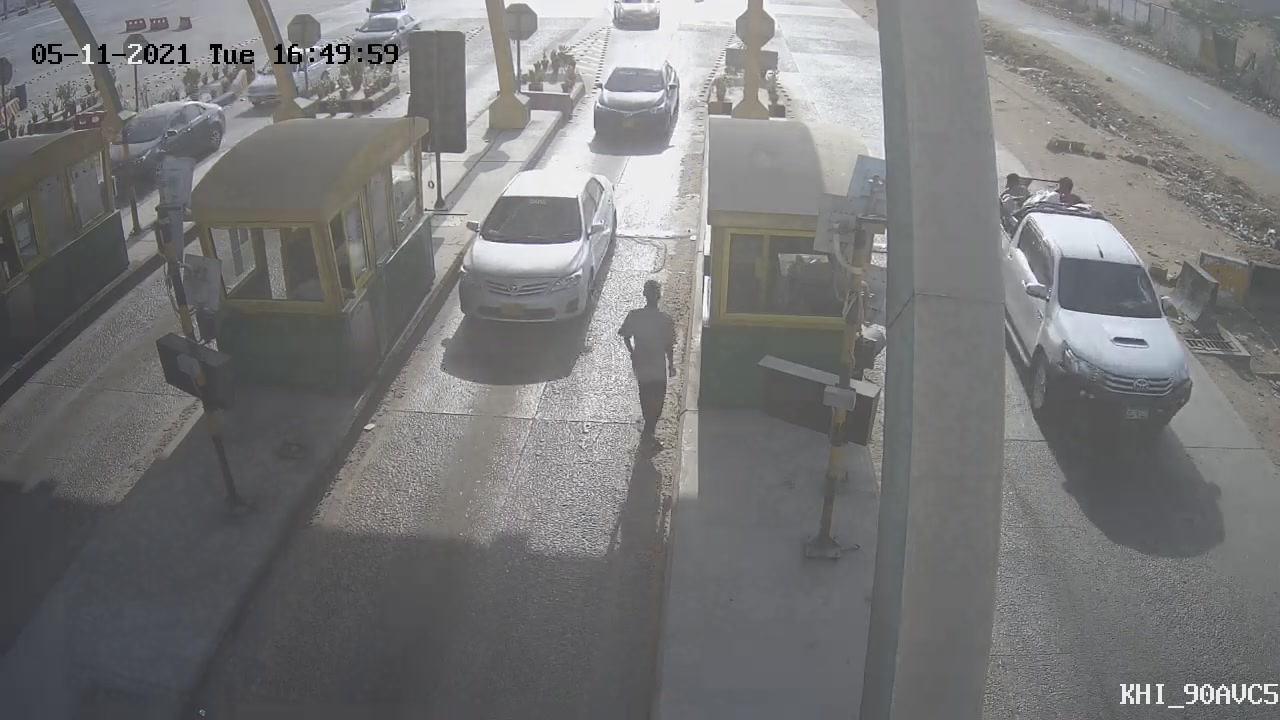F1: (438, 151, 635, 348), (572, 47, 699, 153)
